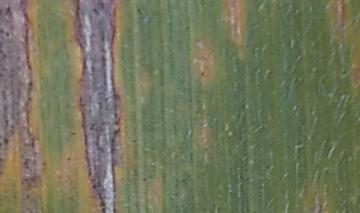tarspot: (130, 138, 137, 144)
